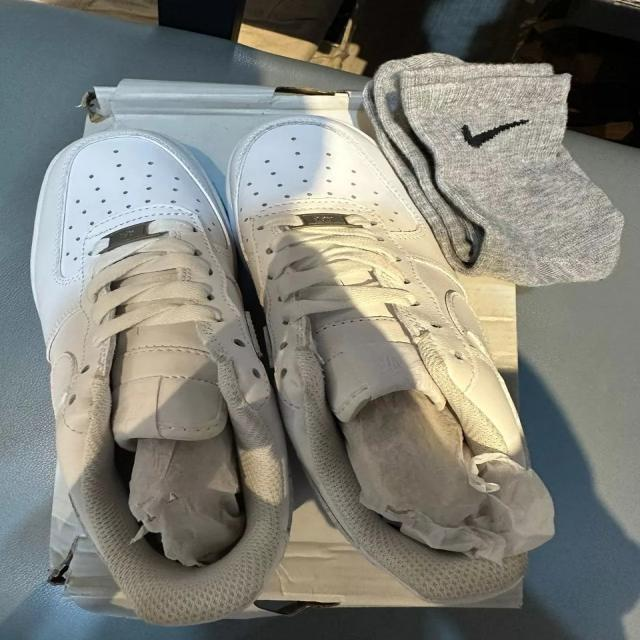nike fake air force: (212, 110, 550, 596), (31, 126, 300, 626)
